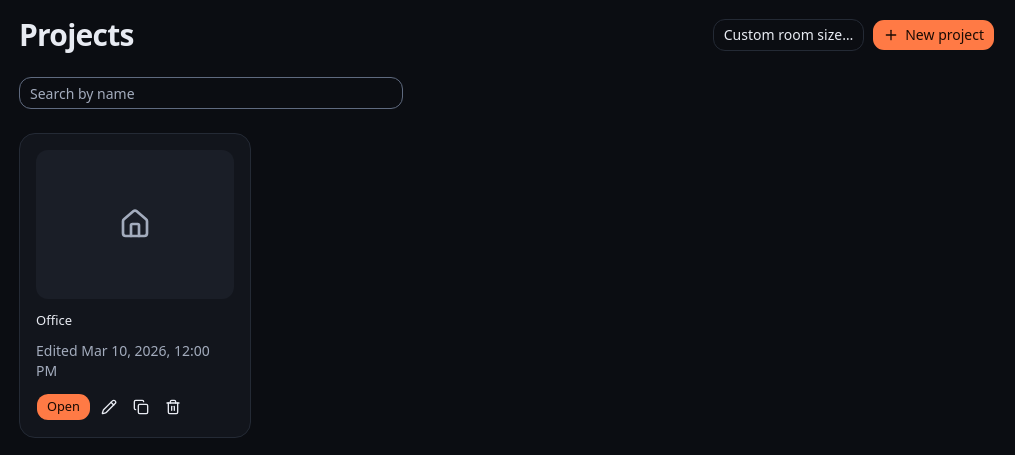
Test: ProjectsScreen: new project › clears the search so the new project can be seen
Expected: the list named "Your projects" is shown, [19,133,251,438]
Type "office" into the search field named "Search projects". click: (211, 93)
box: [19,77,403,109]
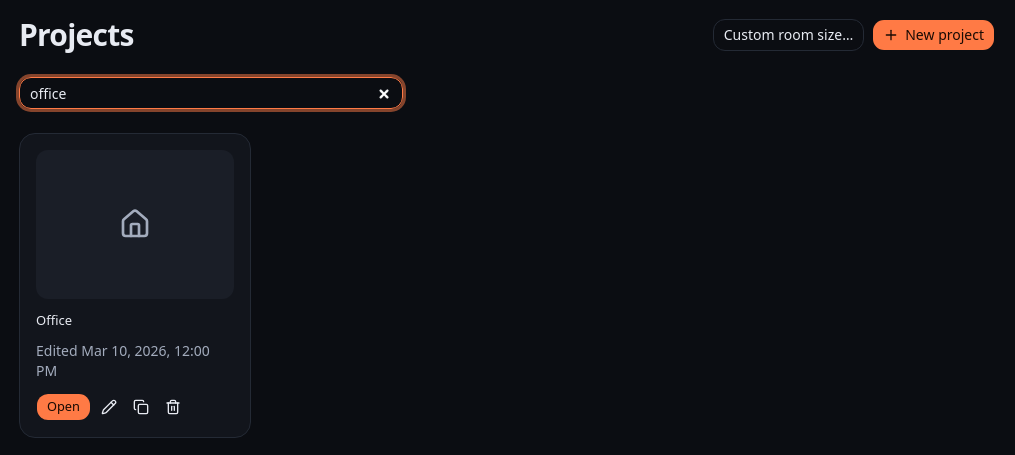
Click the button "New project". click: (934, 35)
box: [872,19,995,51]
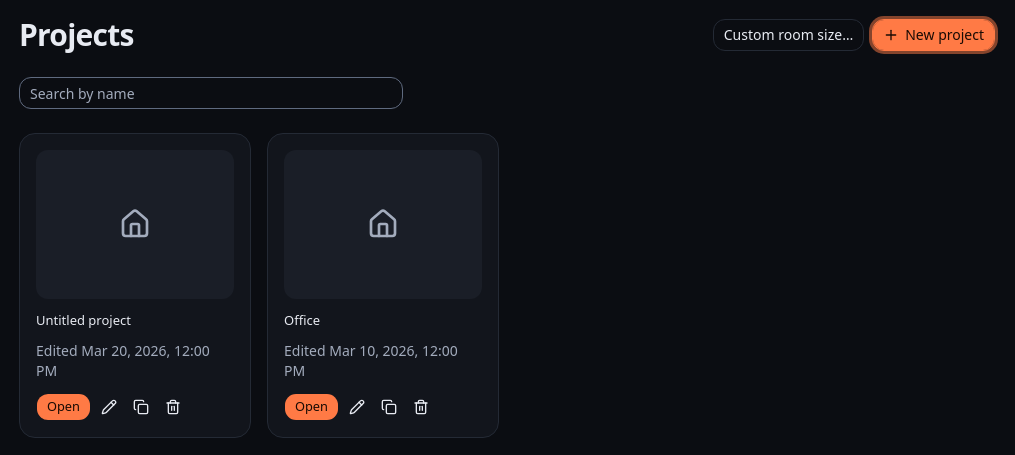
Result: the heading "Untitled project" is shown at [36,310,131,328]
Result: the search field named "Search projects" is empty at [19,77,403,109]
